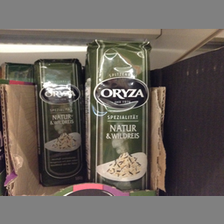rice: (83, 39, 151, 189), (32, 57, 87, 185)
